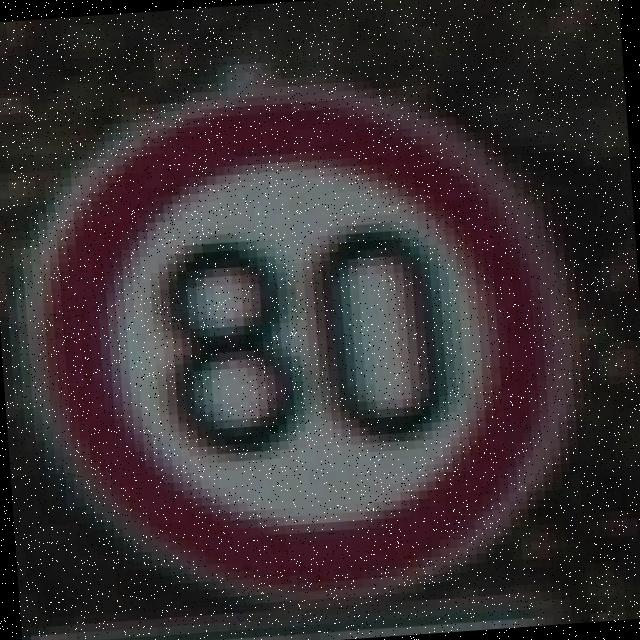Ograniczenie predkosci do 80: (15, 75, 578, 616)
